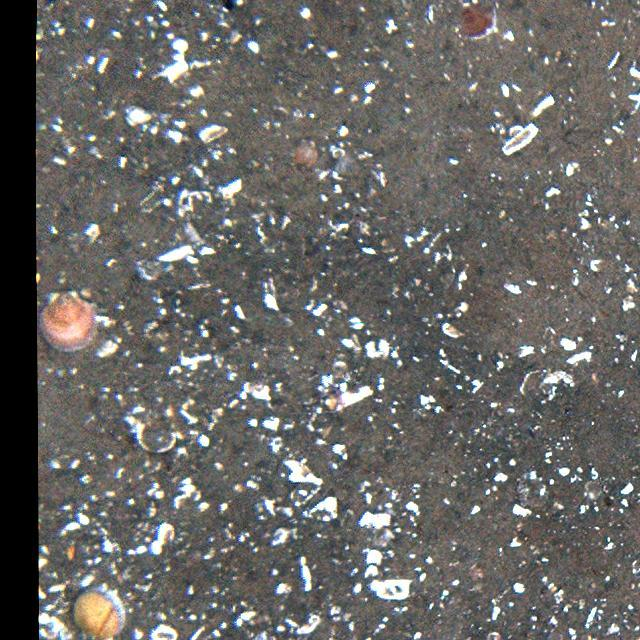scallop: (39, 289, 103, 356)
